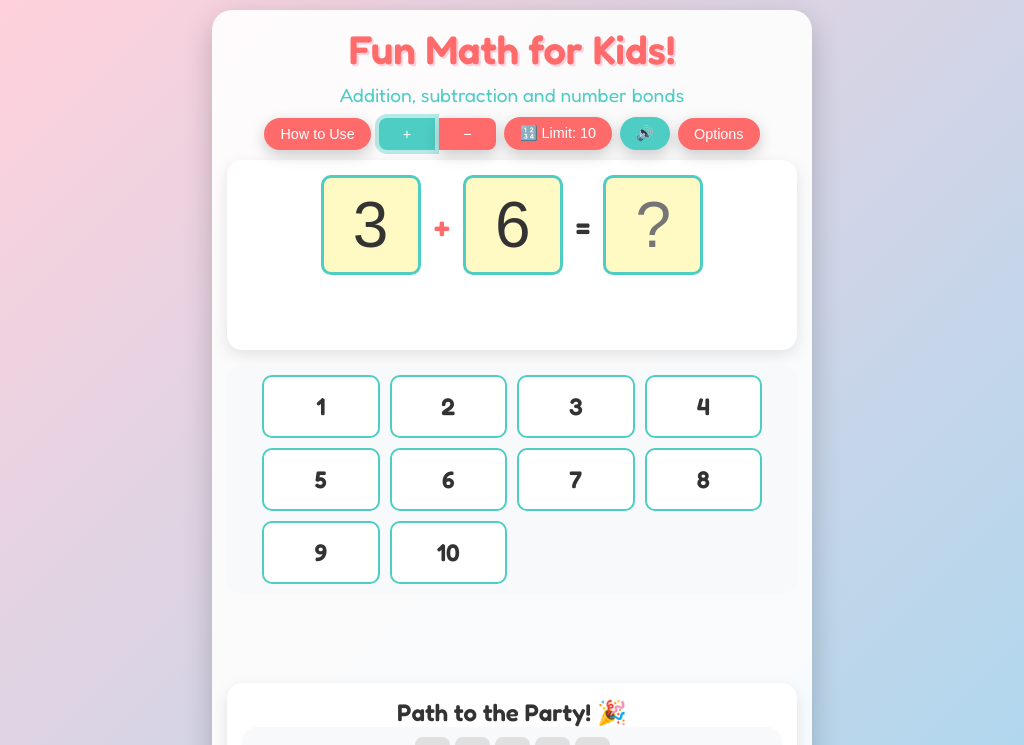
App.vue › fills the first empty field when a touchpad button is clicked
Expected: the number of fields is 3, [321,175,421,275]; [463,175,563,275]; [603,175,703,275]
Click the button with class "touchpad-btn" showing "1" at (321, 406), box [262,375,380,438]
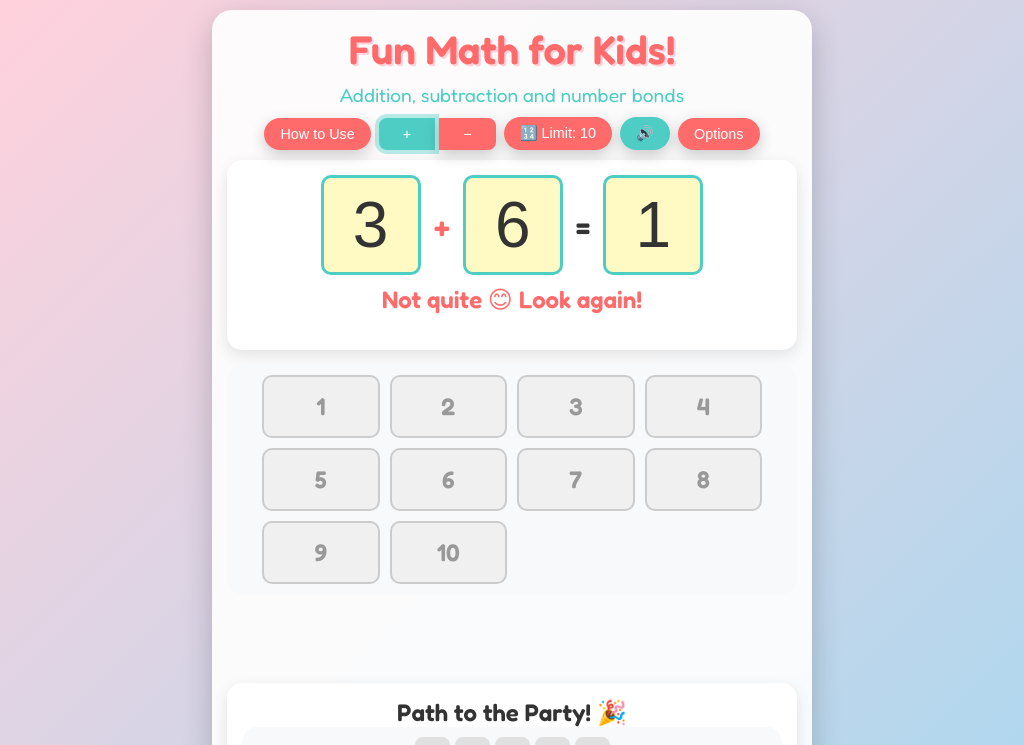
Result: the 3rd field holds "1" at [603,175,703,275]
